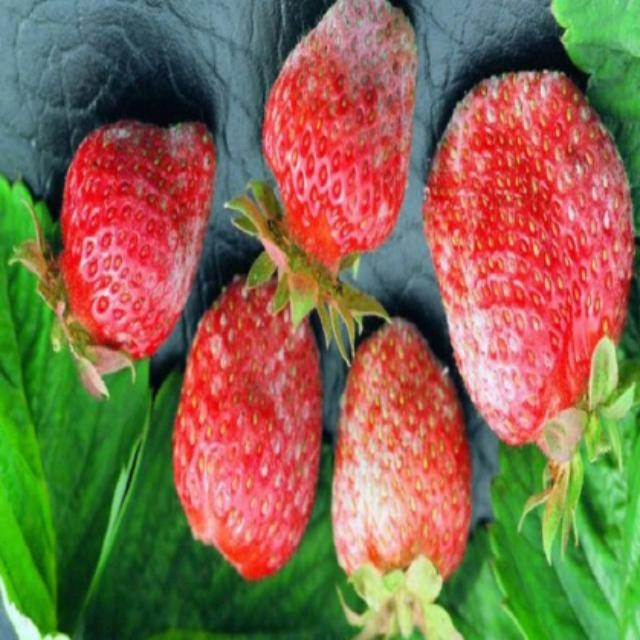Powdery Mildew Fruit: (420, 70, 637, 448), (258, 2, 420, 284), (172, 275, 321, 581), (332, 317, 471, 602), (57, 123, 218, 366)
